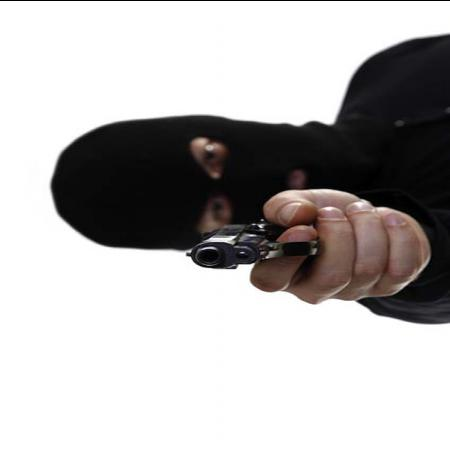Pistol: (186, 216, 320, 270)
